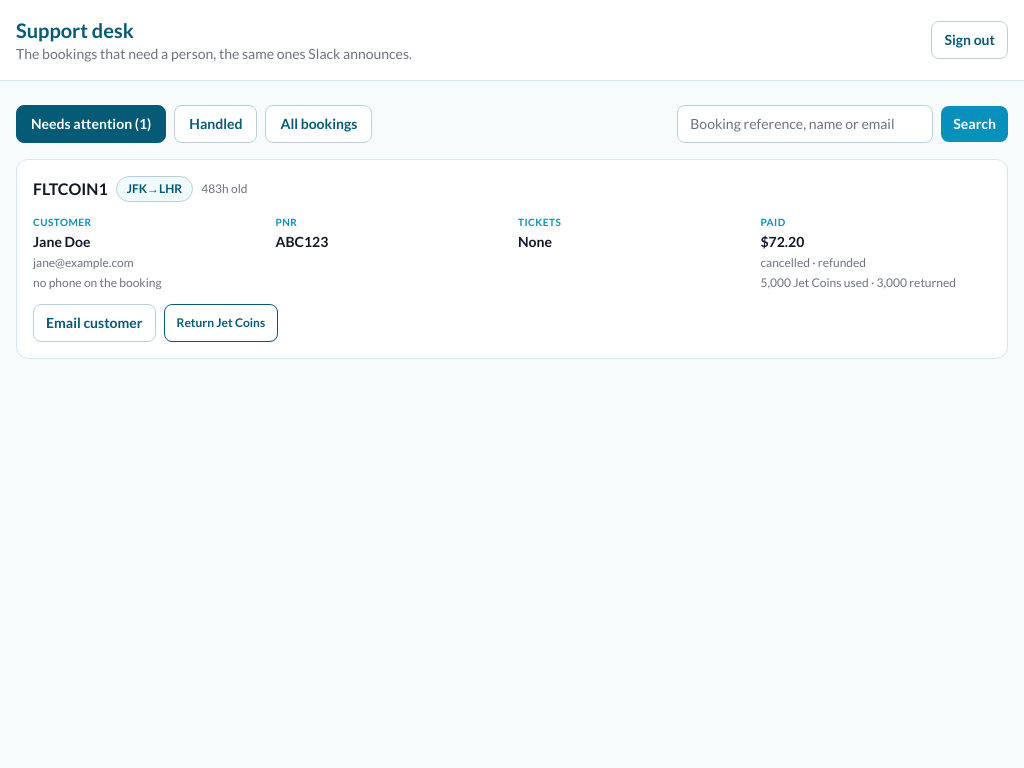
Test: Return Jet Coins › starts from the coins the server offers and shows what they are worth
Click the button "Return Jet Coins": (221, 323) x1=164 y1=304 x2=278 y2=342
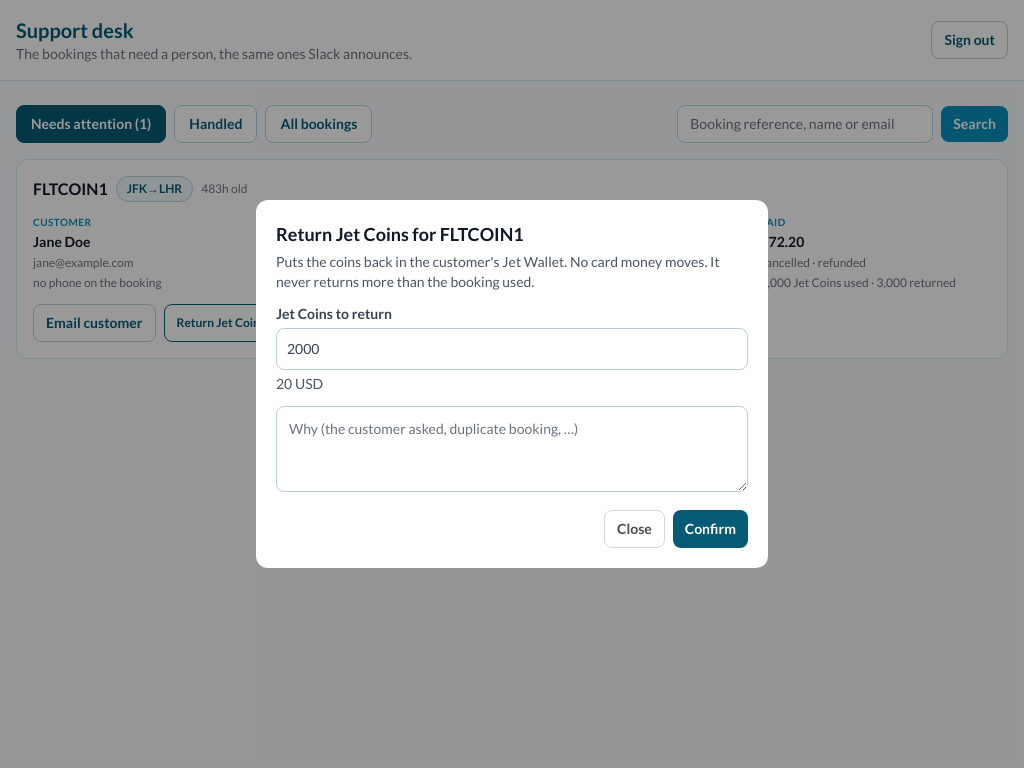
Expected: the number field labelled "Jet Coins to return" holds "2000", x1=276 y1=328 x2=748 y2=370
Expected: the dialog shows "20 USD"
